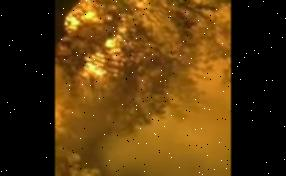fire: (57, 0, 162, 99)
